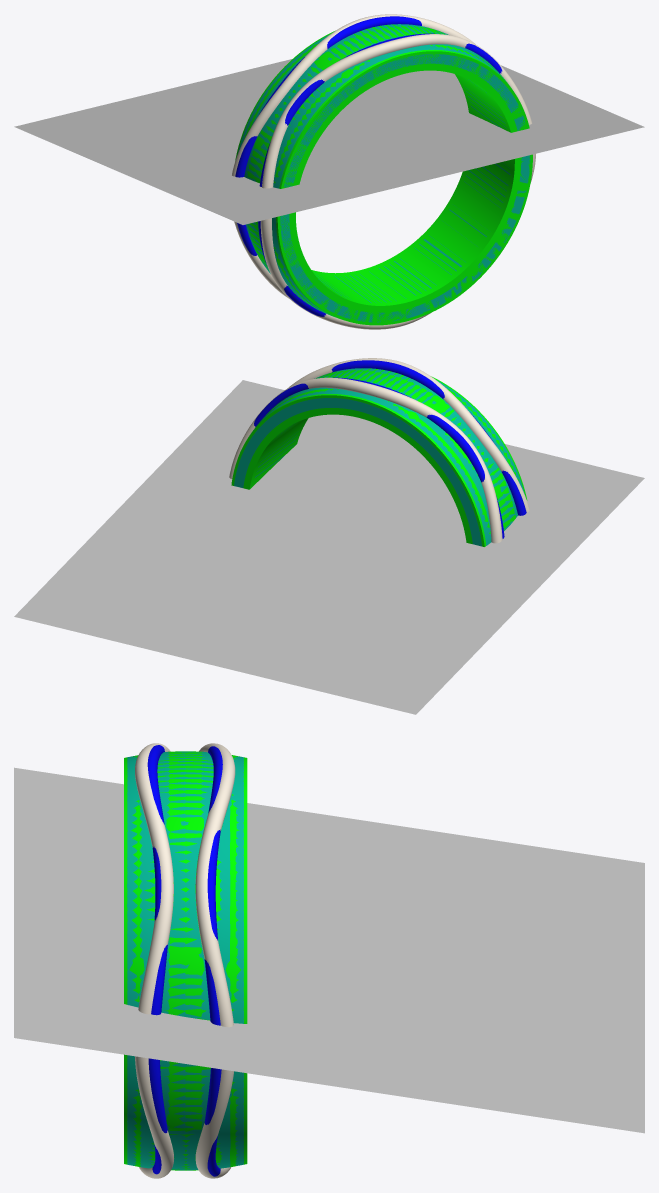
3 views of the same model, one above another, from view 1: azimuth 30°, elevation 25°; view 2: azimuth 150°, elevation 25°; view 3: azimuth 270°, elevation 25° (orthographic). The views are drawn at different scales.
Visible parts, largest first — view 1: VR1056(front).3dm; view 2: VR1056(front).3dm; view 3: VR1056(front).3dm.
Boxes of the visible parts, box(x1,y1,x2,y2) form: VR1056(front).3dm: box(14, 14, 644, 329); VR1056(front).3dm: box(14, 358, 644, 714); VR1056(front).3dm: box(14, 743, 644, 1178).
Size of the model in its own units: 4.22 by 2.88 by 4.16.
